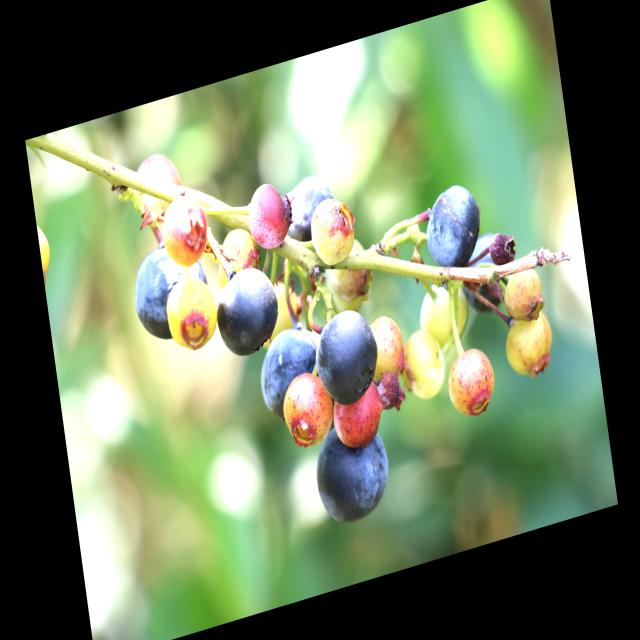blueberry: (124, 228, 220, 356), (306, 404, 399, 536), (250, 309, 341, 436), (307, 298, 387, 418), (207, 254, 289, 367), (418, 173, 491, 277), (276, 165, 346, 256)
blueberry-halfripe: (280, 363, 338, 451), (442, 340, 500, 422), (329, 378, 389, 452), (158, 191, 210, 275), (244, 177, 290, 253), (362, 309, 409, 380), (135, 148, 181, 211)
blueberry-unripe: (162, 267, 223, 359), (399, 321, 457, 408), (415, 272, 476, 354), (498, 304, 558, 386), (306, 195, 357, 266), (209, 225, 259, 292), (499, 262, 547, 324)
